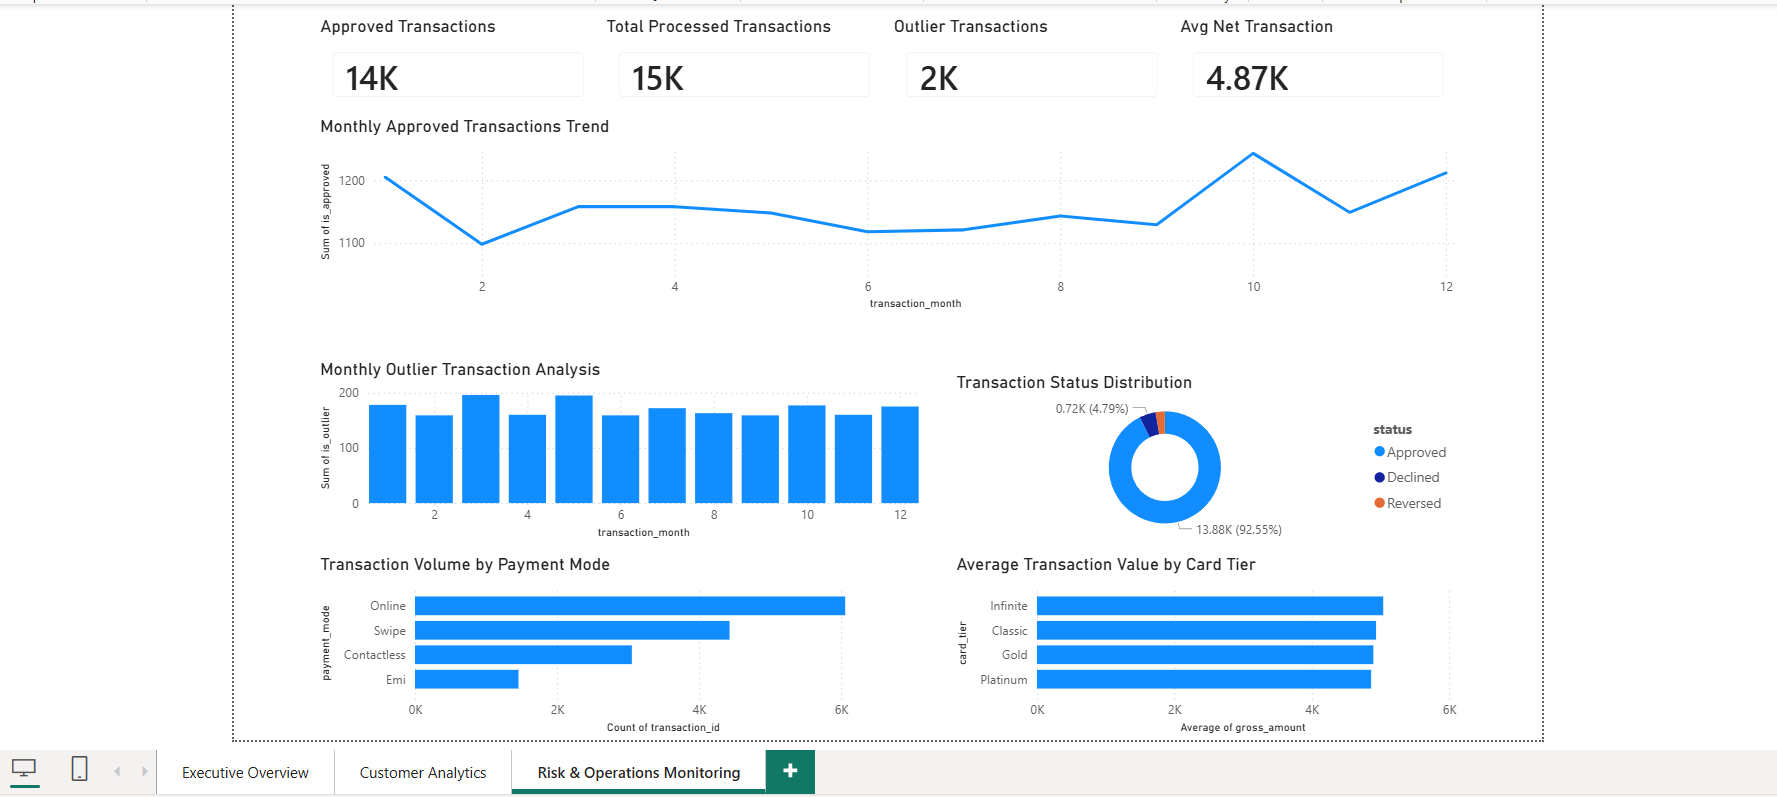

Layout of this report page (visuals, bound fields, positions):
{"tool":"powerbi","page":{"name":"Risk & Operations Monitoring","canvas":[1280,720],"ordinal":2},"visuals":[{"type":"cardVisual","title":"Approved Transactions","fields":{"Data":["Sum(transactions_clean.is_approved)"]},"box":[79.5,11,280,97.8],"z":0},{"type":"cardVisual","title":"Total Processed Transactions","fields":{"Data":["CountNonNull(transactions_clean.status)"]},"box":[359.5,11,280,97.8],"z":1},{"type":"cardVisual","title":"Outlier Transactions","fields":{"Data":["Sum(transactions_clean.is_outlier)"]},"box":[640.8,11,280,97.8],"z":2},{"type":"cardVisual","title":"Avg Net Transaction","fields":{"Data":["Avg(transactions_clean.net_transaction)"]},"box":[920.8,11,280,97.8],"z":3},{"type":"lineChart","title":"Monthly Approved Transactions Trend","fields":{"Category":["transactions_clean.transaction_month"],"Y":["Sum(transactions_clean.is_approved)"]},"box":[79.5,108.8,1121.3,195.7],"z":4},{"type":"clusteredColumnChart","title":"Monthly Outlier Transaction Analysis","fields":{"Category":["transactions_clean.transaction_month"],"Y":["Sum(transactions_clean.is_outlier)"]},"box":[79.5,347.3,595.5,181],"z":5},{"type":"donutChart","title":"Transaction Status Distribution","fields":{"Category":["transactions_clean.status"],"Y":["CountNonNull(transactions_clean.transaction_id)"]},"box":[701.9,359.5,498.9,168.8],"z":6},{"type":"clusteredBarChart","title":"Transaction Volume by Payment Mode","fields":{"Category":["transactions_clean.payment_mode"],"Y":["CountNonNull(transactions_clean.transaction_id)"]},"box":[79,538,596,181],"z":7},{"type":"barChart","title":"Average Transaction Value by Card Tier","fields":{"Y":["Avg(transactions_clean.gross_amount)"],"Category":["transactions_clean.card_tier"]},"box":[702,538,499,181],"z":8}]}

Visuals, with their boxes on the page's 1280x720 design canvas (x1, y1, x2, y2). These are canvas units, not pixel positions in the 1777x797 screenshot, which may show the page scaled, cropped or inside an application window:
"Approved Transactions" cardVisual: x1=80 y1=11 x2=360 y2=109
"Total Processed Transactions" cardVisual: x1=360 y1=11 x2=640 y2=109
"Outlier Transactions" cardVisual: x1=641 y1=11 x2=921 y2=109
"Avg Net Transaction" cardVisual: x1=921 y1=11 x2=1201 y2=109
"Monthly Approved Transactions Trend" lineChart: x1=80 y1=109 x2=1201 y2=304
"Monthly Outlier Transaction Analysis" clusteredColumnChart: x1=80 y1=347 x2=675 y2=528
"Transaction Status Distribution" donutChart: x1=702 y1=360 x2=1201 y2=528
"Transaction Volume by Payment Mode" clusteredBarChart: x1=79 y1=538 x2=675 y2=719
"Average Transaction Value by Card Tier" barChart: x1=702 y1=538 x2=1201 y2=719
